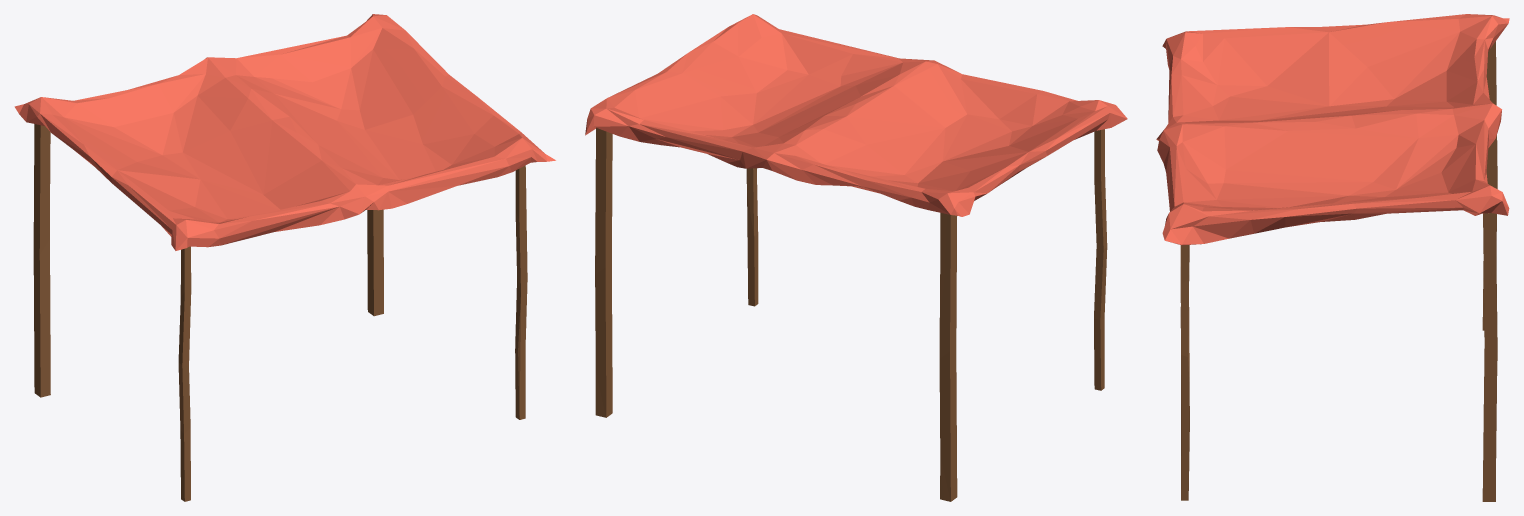
Rendered from Market_Roof_01.fbx.
3 views of the same model, side by side, from view 1: azimuth 30°, elevation 25°; view 2: azimuth 150°, elevation 25°; view 3: azimuth 270°, elevation 25° (orthographic). The views are drawn at different scales.
Visible parts, largest first — view 1: Market_Roof_01; view 2: Market_Roof_01; view 3: Market_Roof_01.
Boxes of the visible parts, box(x1,y1,x2,y2) form: Market_Roof_01: box(14, 14, 555, 501); Market_Roof_01: box(585, 14, 1127, 501); Market_Roof_01: box(1156, 14, 1509, 501).
Bounding box in the file's own units: 272 × 203 × 208.
